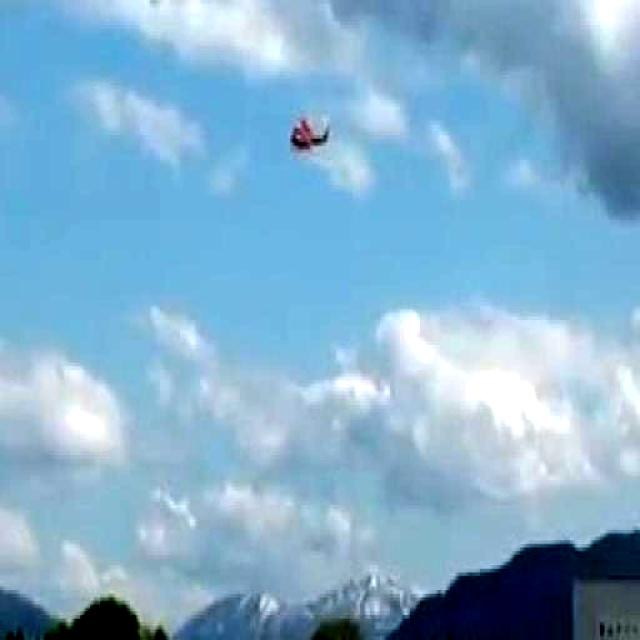drone: (285, 109, 334, 162)
